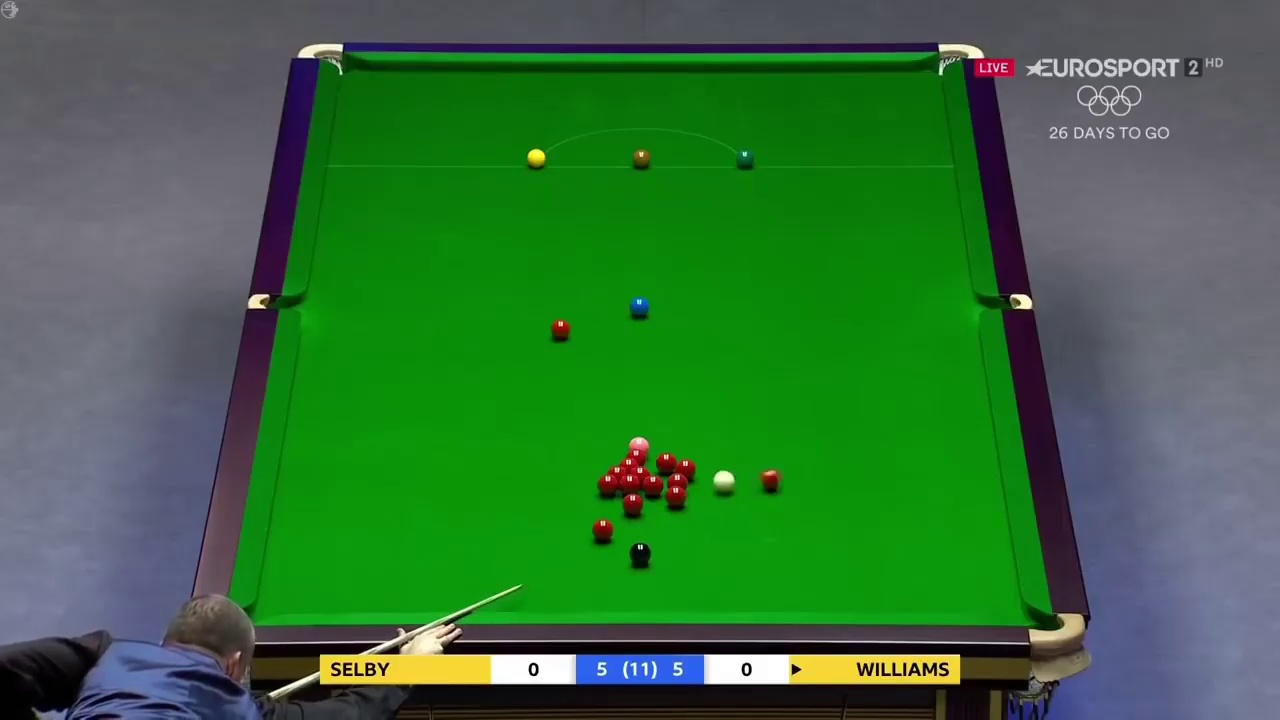ball: (708, 468, 735, 492), (589, 516, 615, 539), (626, 295, 651, 316), (521, 149, 545, 170), (629, 543, 652, 564), (551, 318, 573, 338), (622, 492, 643, 511), (734, 149, 756, 166), (631, 149, 651, 166)
